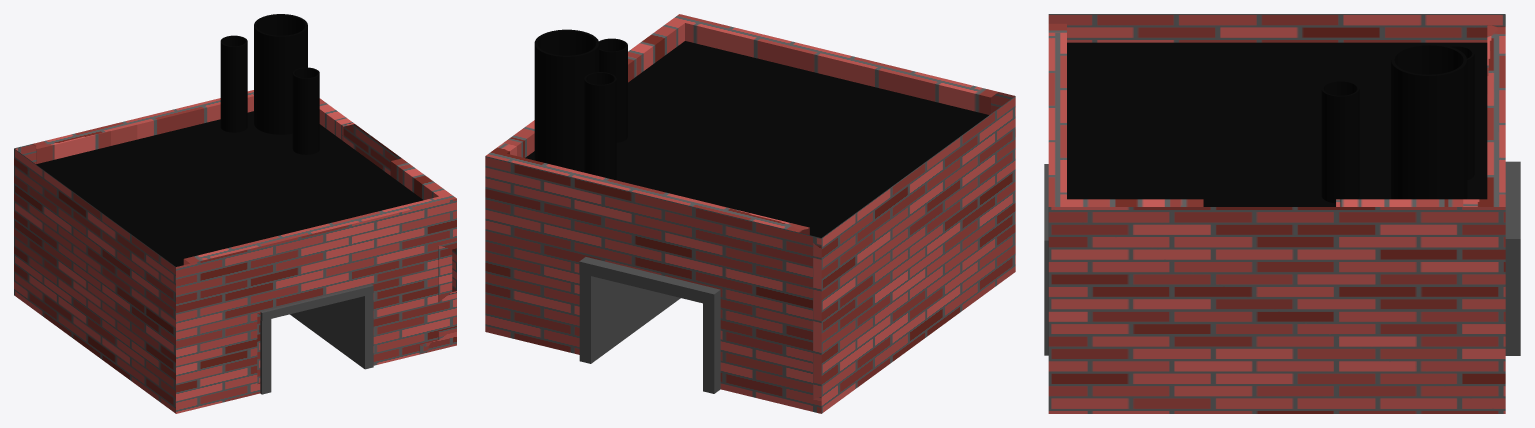
Rendered from Smelter.fbx.
3 renders of one model, left to right at view 1: azimuth 30°, elevation 25°; view 2: azimuth 150°, elevation 25°; view 3: azimuth 270°, elevation 25°, orthographic. The views are drawn at different scales.
Visible parts, largest first — view 1: Cube, Cylinder, Cylinder.002, Cylinder.001; view 2: Cube, Cylinder, Cylinder.002, Cylinder.001; view 3: Cube, Cylinder, Cylinder.001, Cylinder.002.
Part boxes in pixels (x1,y1,x2,y2): Cube: [14, 90, 456, 413]; Cylinder: [254, 14, 307, 134]; Cylinder.002: [220, 35, 247, 132]; Cylinder.001: [292, 67, 319, 154]; Cube: [485, 14, 1015, 413]; Cylinder: [534, 29, 599, 172]; Cylinder.002: [584, 72, 616, 180]; Cylinder.001: [599, 38, 627, 142]; Cube: [1044, 14, 1520, 413]; Cylinder: [1391, 44, 1467, 199]; Cylinder.001: [1321, 80, 1359, 203]; Cylinder.002: [1448, 45, 1474, 180].
Size of the model in its own units: 600 by 472 by 626.
3 materials, 2 textured.
